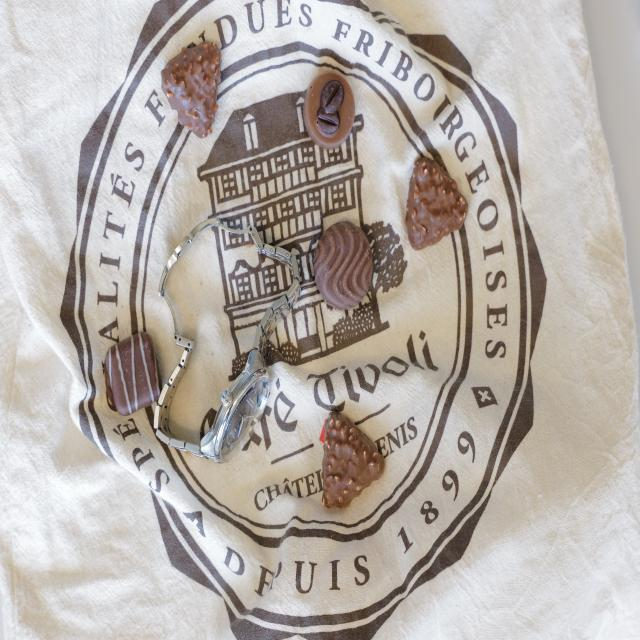Arabia: (308, 69, 356, 146)
Noir_authentique: (316, 220, 374, 312)
Stracciatella: (103, 331, 161, 415)
Triangolo: (324, 411, 384, 510), (405, 153, 467, 247), (163, 38, 219, 134)
